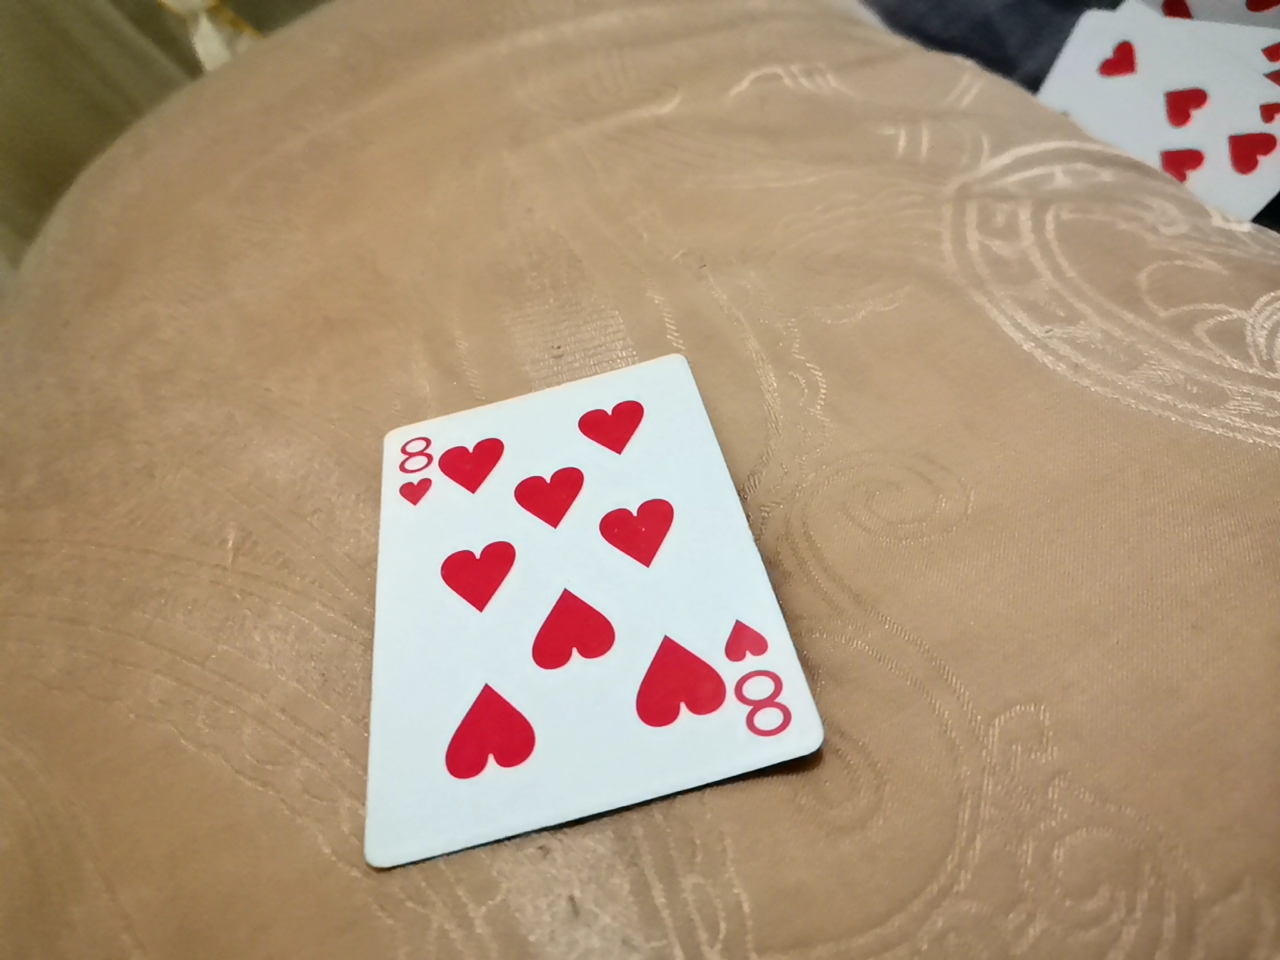hx 8: (342, 320, 817, 870)
